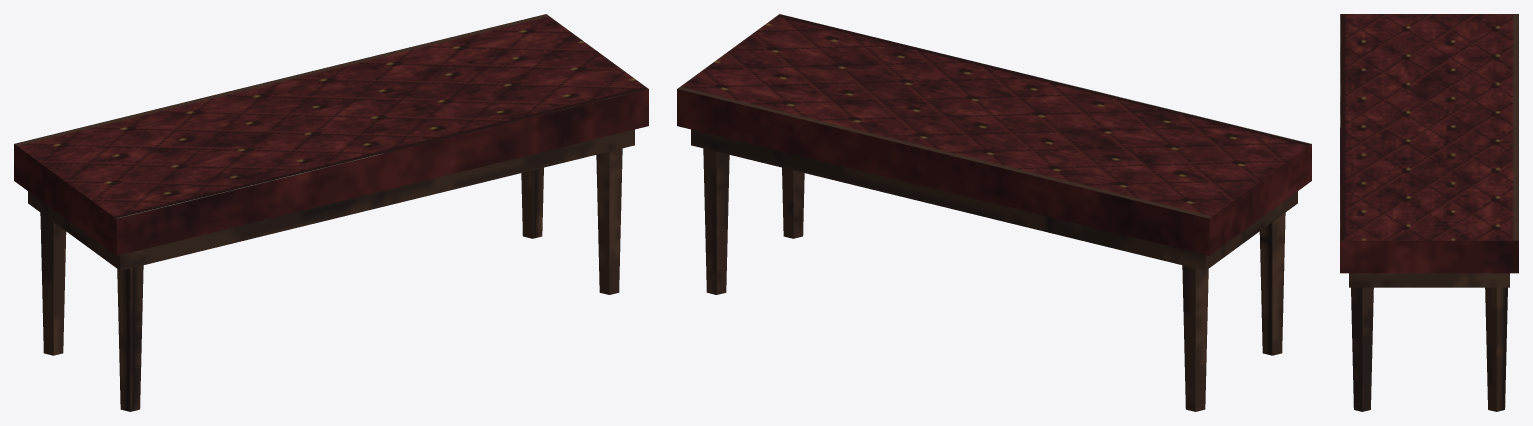
File: Atmos_Bench.fbx
3 views of the same model, side by side, from view 1: azimuth 30°, elevation 25°; view 2: azimuth 150°, elevation 25°; view 3: azimuth 270°, elevation 25° (orthographic). The views are drawn at different scales.
Visible parts, largest first — view 1: Atmos_Bench; view 2: Atmos_Bench; view 3: Atmos_Bench.
Boxes of the visible parts, <box> form: Atmos_Bench: <box>14,14,648,411</box>; Atmos_Bench: <box>677,14,1311,411</box>; Atmos_Bench: <box>1340,14,1518,411</box>.
Bounding box in the file's own units: 120 × 44 × 40.
